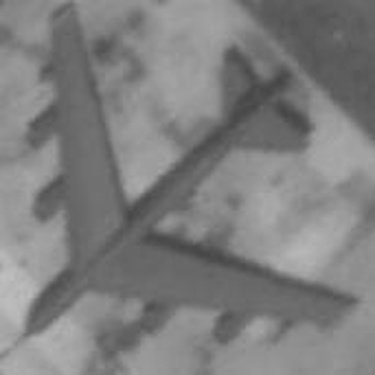airplane: (9, 2, 367, 363)
